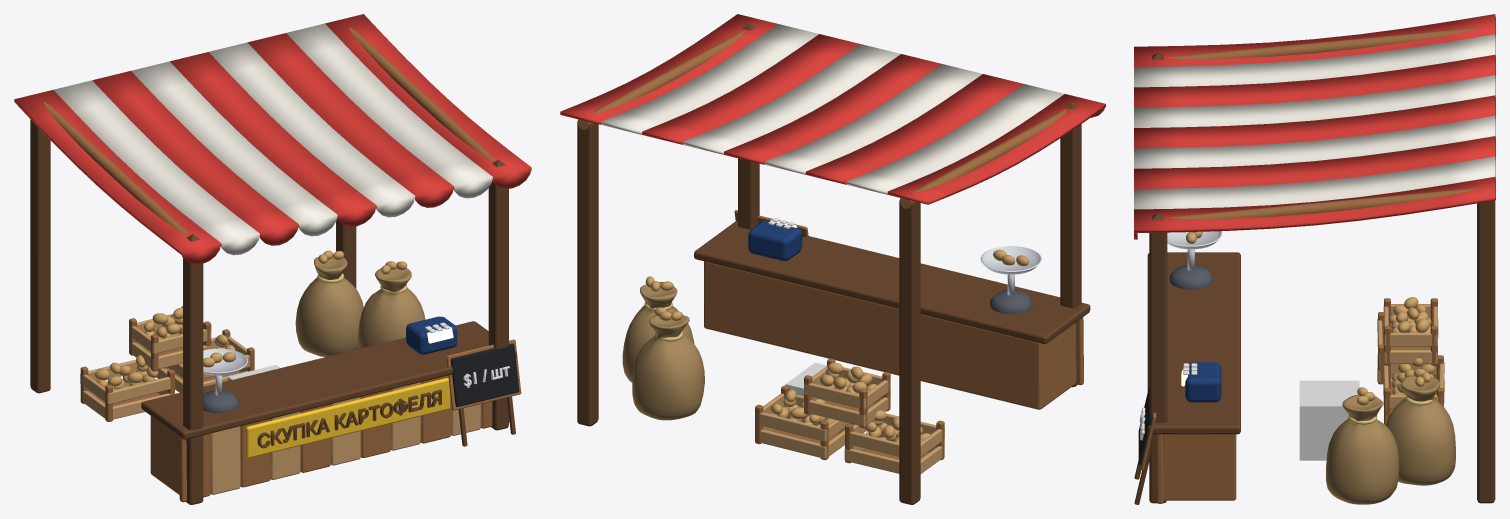
Rendered from SellStand.fbx.
3 views of the same model, side by side, from view 1: azimuth 30°, elevation 25°; view 2: azimuth 150°, elevation 25°; view 3: azimuth 270°, elevation 25° (orthographic). The views are drawn at different scales.
Visible parts, largest first — view 1: Body__FabricRed, Body__FabricWhite, Body__WoodDark.001, Body__Wood.001, Body__WoodLight.001, Body__Burlap, Body__Yellow, Body__Black, Body__Potato, Body__BlueDark, ScalePan__Chrome@bob_0.03_6.28#-2.3,2.22,2.3, Body__MetalDark.001; view 2: Body__WoodDark.001, Body__Wood.001, Body__FabricRed, Body__FabricWhite, Body__WoodLight.001, Body__Burlap, Body__Potato, Body__BlueDark, ScalePan__Chrome@bob_0.03_6.28#-2.3,2.22,2.3, Body__MetalDark.001, Body__Potato.001; view 3: Body__FabricRed, Body__FabricWhite, Body__WoodDark.001, Body__Wood.001, Body__Burlap, Origin__Pivot.002, Body__WoodLight.001, Body__Potato, Body__BlueDark, Body__MetalDark.001, ScalePan__Chrome@bob_0.03_6.28#-2.3,2.22,2.3, Body__Potato.001 (+1 smaller).
Part boxes in pixels (x1,y1,x2,y2): Body__FabricRed: (14,14,531,264); Body__FabricWhite: (53,23,492,255); Body__WoodDark.001: (30,119,516,504); Body__Wood.001: (43,27,521,502); Body__WoodLight.001: (80,314,480,494); Body__Burlap: (295,257,425,357); Body__Yellow: (245,378,450,458); Body__Black: (450,343,519,406); Body__Potato: (94,313,235,390); Body__BlueDark: (406,316,457,354); ScalePan__Chrome@bob_0.03_6.28#-2.3,2.22,2.3: (203,348,247,375); Body__MetalDark.001: (203,390,238,412); Body__WoodDark.001: (577,23,1090,504); Body__Wood.001: (578,30,1083,463); Body__FabricRed: (560,14,1105,204); Body__FabricWhite: (601,24,1064,194); Body__WoodLight.001: (760,366,944,473); Body__Burlap: (622,282,704,420); Body__Potato: (770,366,930,442); Body__BlueDark: (748,221,802,260); ScalePan__Chrome@bob_0.03_6.28#-2.3,2.22,2.3: (980,246,1041,274); Body__MetalDark.001: (990,289,1032,313); Body__Potato.001: (645,276,843,374); Body__FabricRed: (1134,14,1495,239); Body__FabricWhite: (1134,34,1495,209); Body__WoodDark.001: (1134,53,1495,504); Body__Wood.001: (1140,28,1478,503); Body__Burlap: (1326,375,1455,504); Origin__Pivot.002: (1299,380,1359,460); Body__WoodLight.001: (1377,304,1444,423); Body__Potato: (1388,297,1434,394); Body__BlueDark: (1185,362,1221,402); Body__MetalDark.001: (1169,265,1212,289); ScalePan__Chrome@bob_0.03_6.28#-2.3,2.22,2.3: (1167,231,1222,249); Body__Potato.001: (1357,307,1430,405).
Size of the model in its own units: 720 by 628 by 601.
